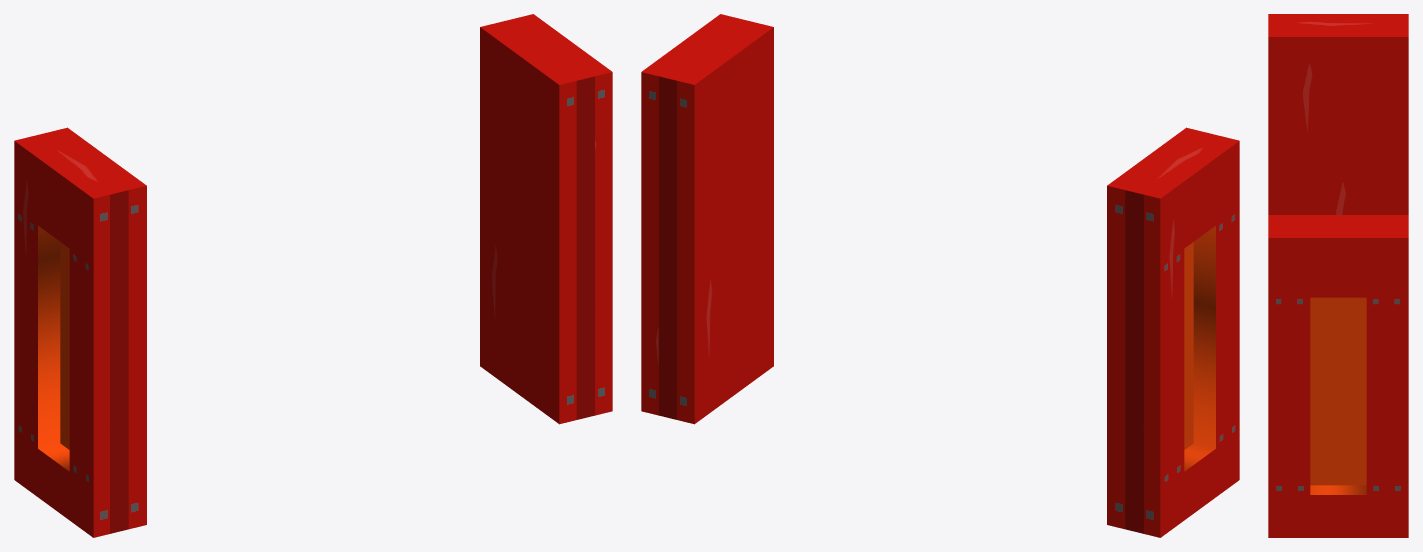
Rendered from Bridge2Beam1.fbx.
The picture shows the model from 3 angles, left to right: view 1: azimuth 30°, elevation 25°; view 2: azimuth 150°, elevation 25°; view 3: azimuth 270°, elevation 25°; orthographic projection. The views are drawn at different scales.
Parts seen in each view (by area): view 1: Bridge2Beam1; view 2: Bridge2Beam1; view 3: Bridge2Beam1.
Part boxes in pixels (x1,y1,x2,y2): Bridge2Beam1: (14,14,612,537); Bridge2Beam1: (641,14,1239,537); Bridge2Beam1: (1268,14,1408,537).
Bounding box in the file's own units: 18.15 × 11.33 × 4.8.
